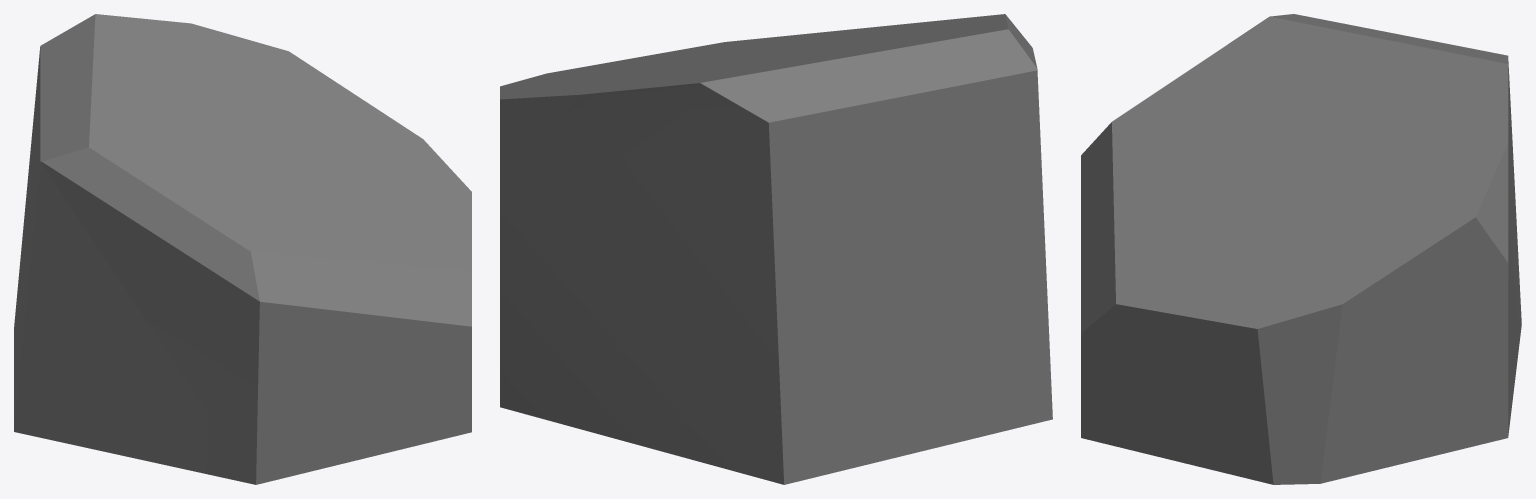
File: rock13.fbx
The picture shows the model from 3 angles, left to right: view 1: azimuth 30°, elevation 25°; view 2: azimuth 150°, elevation 25°; view 3: azimuth 270°, elevation 25°; orthographic projection. The views are drawn at different scales.
Parts seen in each view (by area): view 1: rock17; view 2: rock17; view 3: rock17.
Boxes of the visible parts, x1,y1,x2,y2 form: rock17: (14,14,471,484); rock17: (500,14,1052,484); rock17: (1081,14,1521,484).
Size of the model in its own units: 2361 by 1535 by 2068.
Materials: 1 (1 with a texture image).
